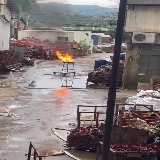fire: (56, 51, 74, 62)
